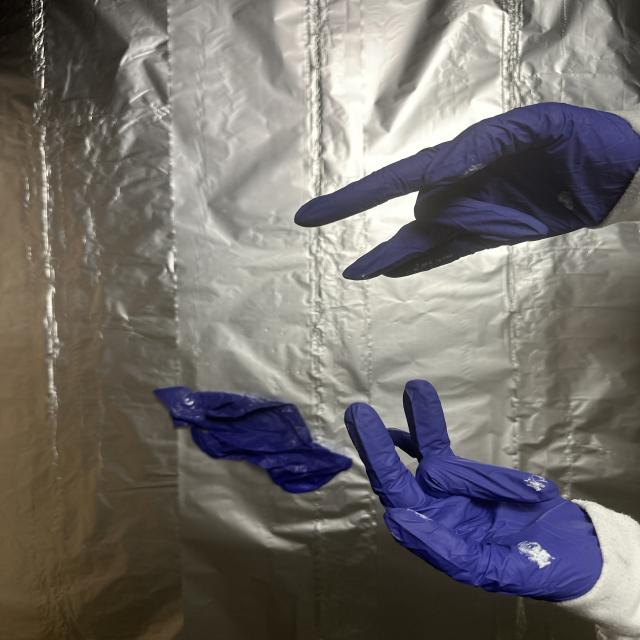gloves_contaminated: (295, 103, 640, 280), (345, 380, 603, 602)
